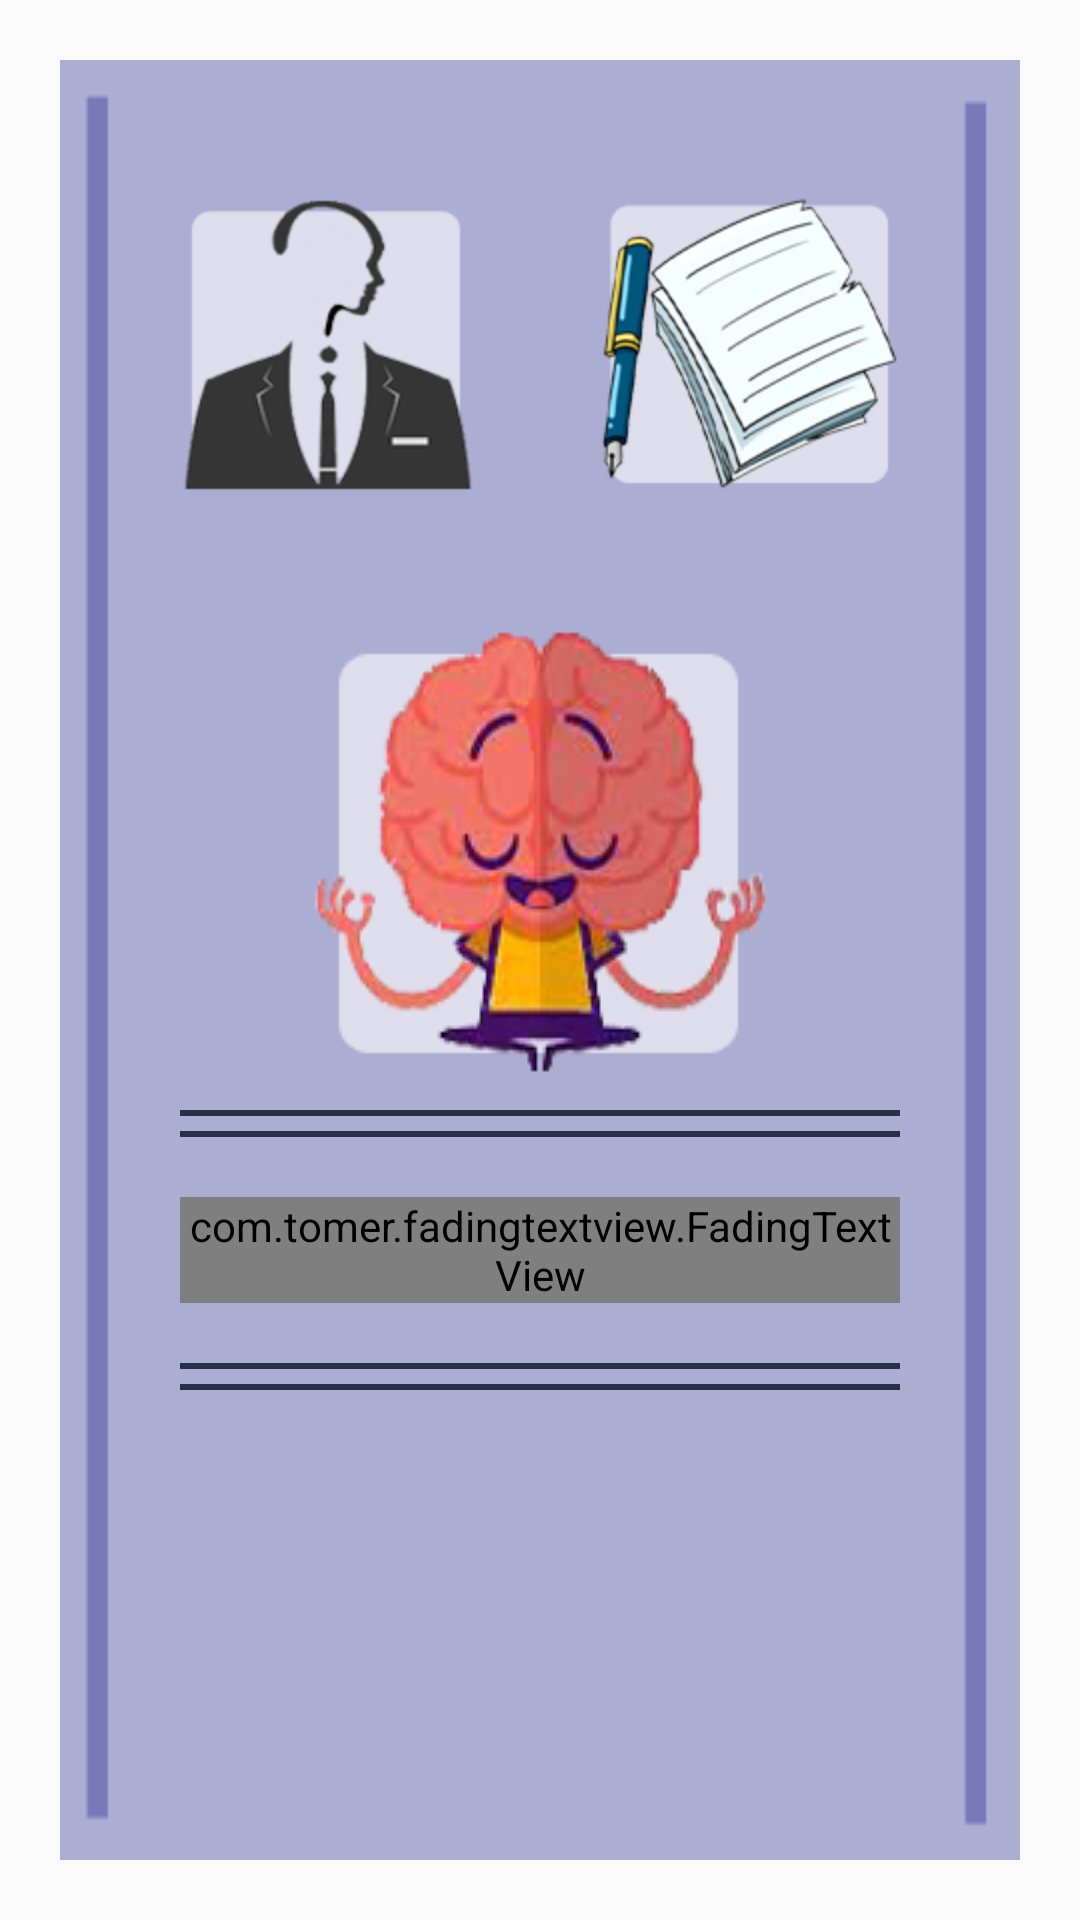

Screen size 1080 x 1920. Icon name, then its box in pixels as (x1, y1, x2, y2):
checkman: (185, 200, 472, 490)
paperpen: (602, 199, 897, 488)
